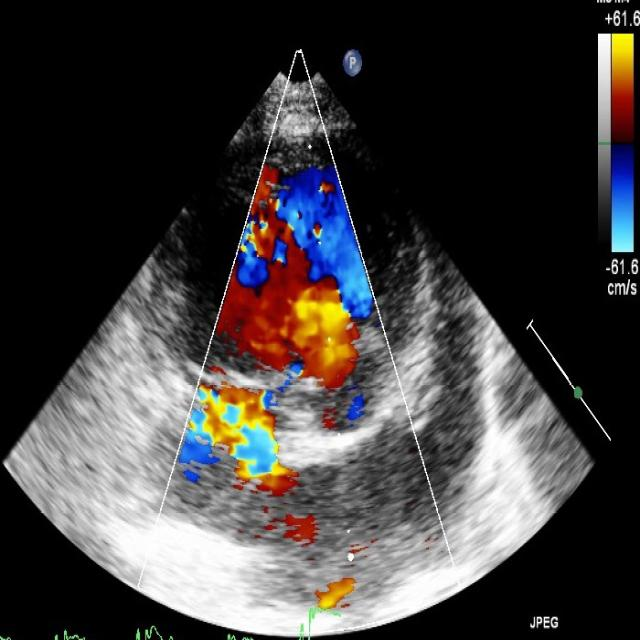VSDType2: (247, 216, 331, 364)
